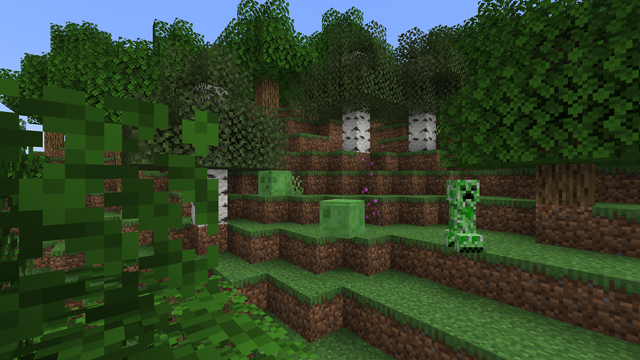creepers: (443, 176, 480, 253)
slimes: (318, 197, 366, 238), (257, 169, 291, 194)
